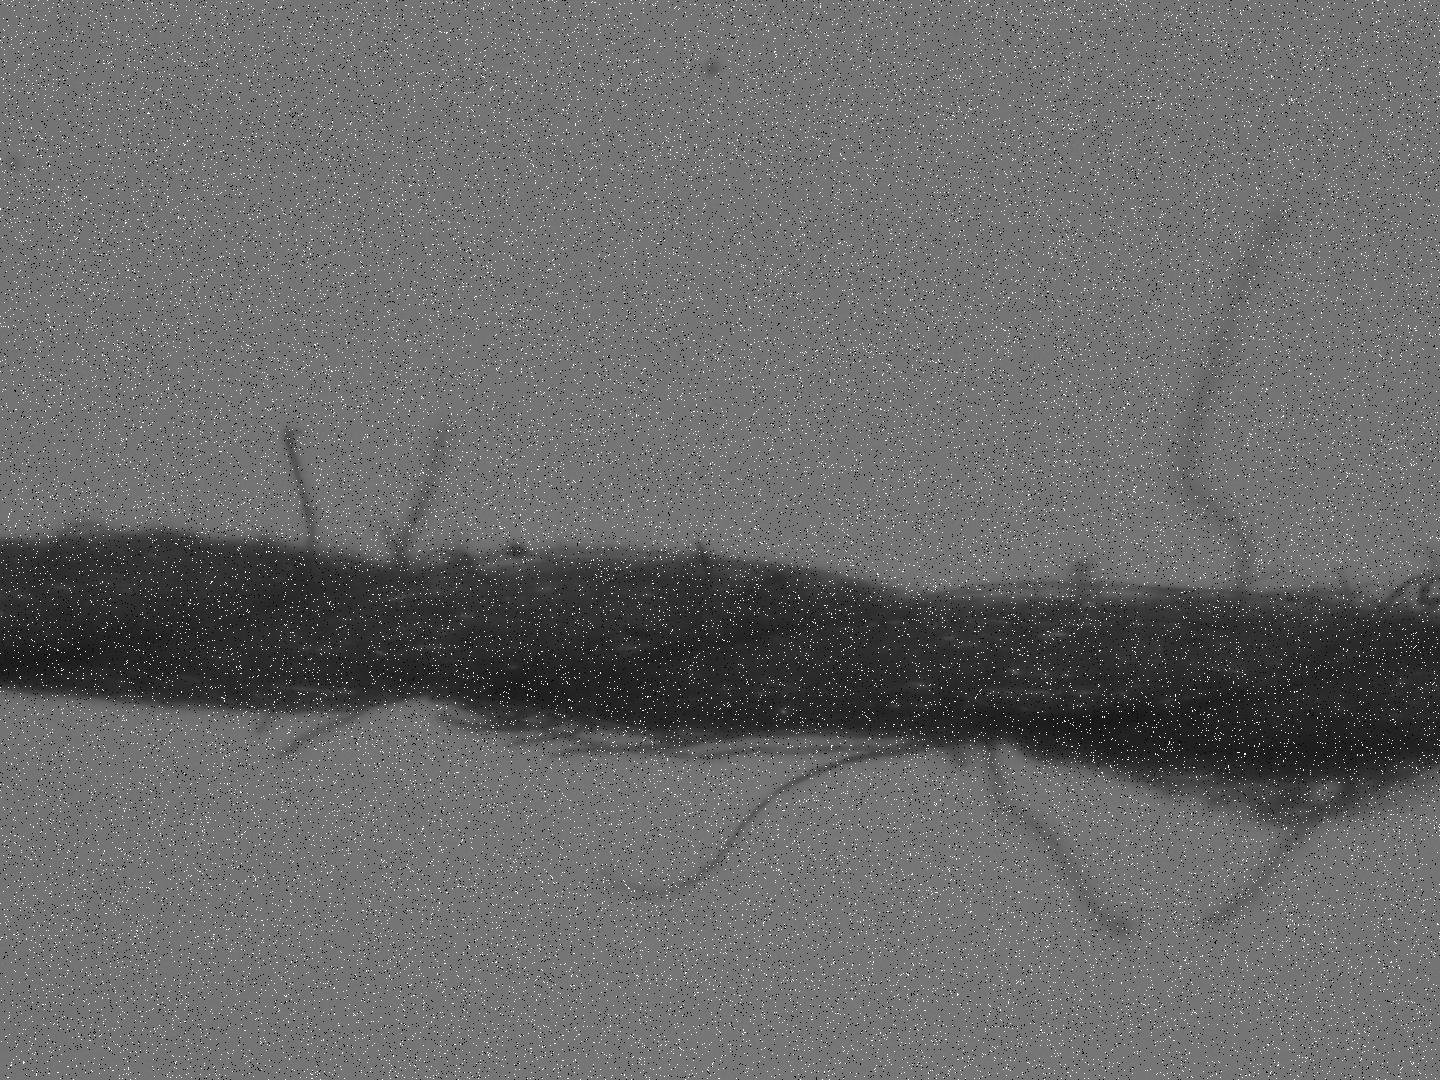loop_fiber: (1030, 746, 1421, 828), (427, 697, 718, 759), (1221, 538, 1440, 619), (913, 576, 1238, 605)
protruding_fiber: (592, 737, 963, 901), (1172, 208, 1281, 608), (983, 736, 1141, 936), (1203, 770, 1347, 926), (391, 423, 457, 568), (663, 736, 904, 767), (272, 702, 373, 766), (280, 417, 320, 559)
